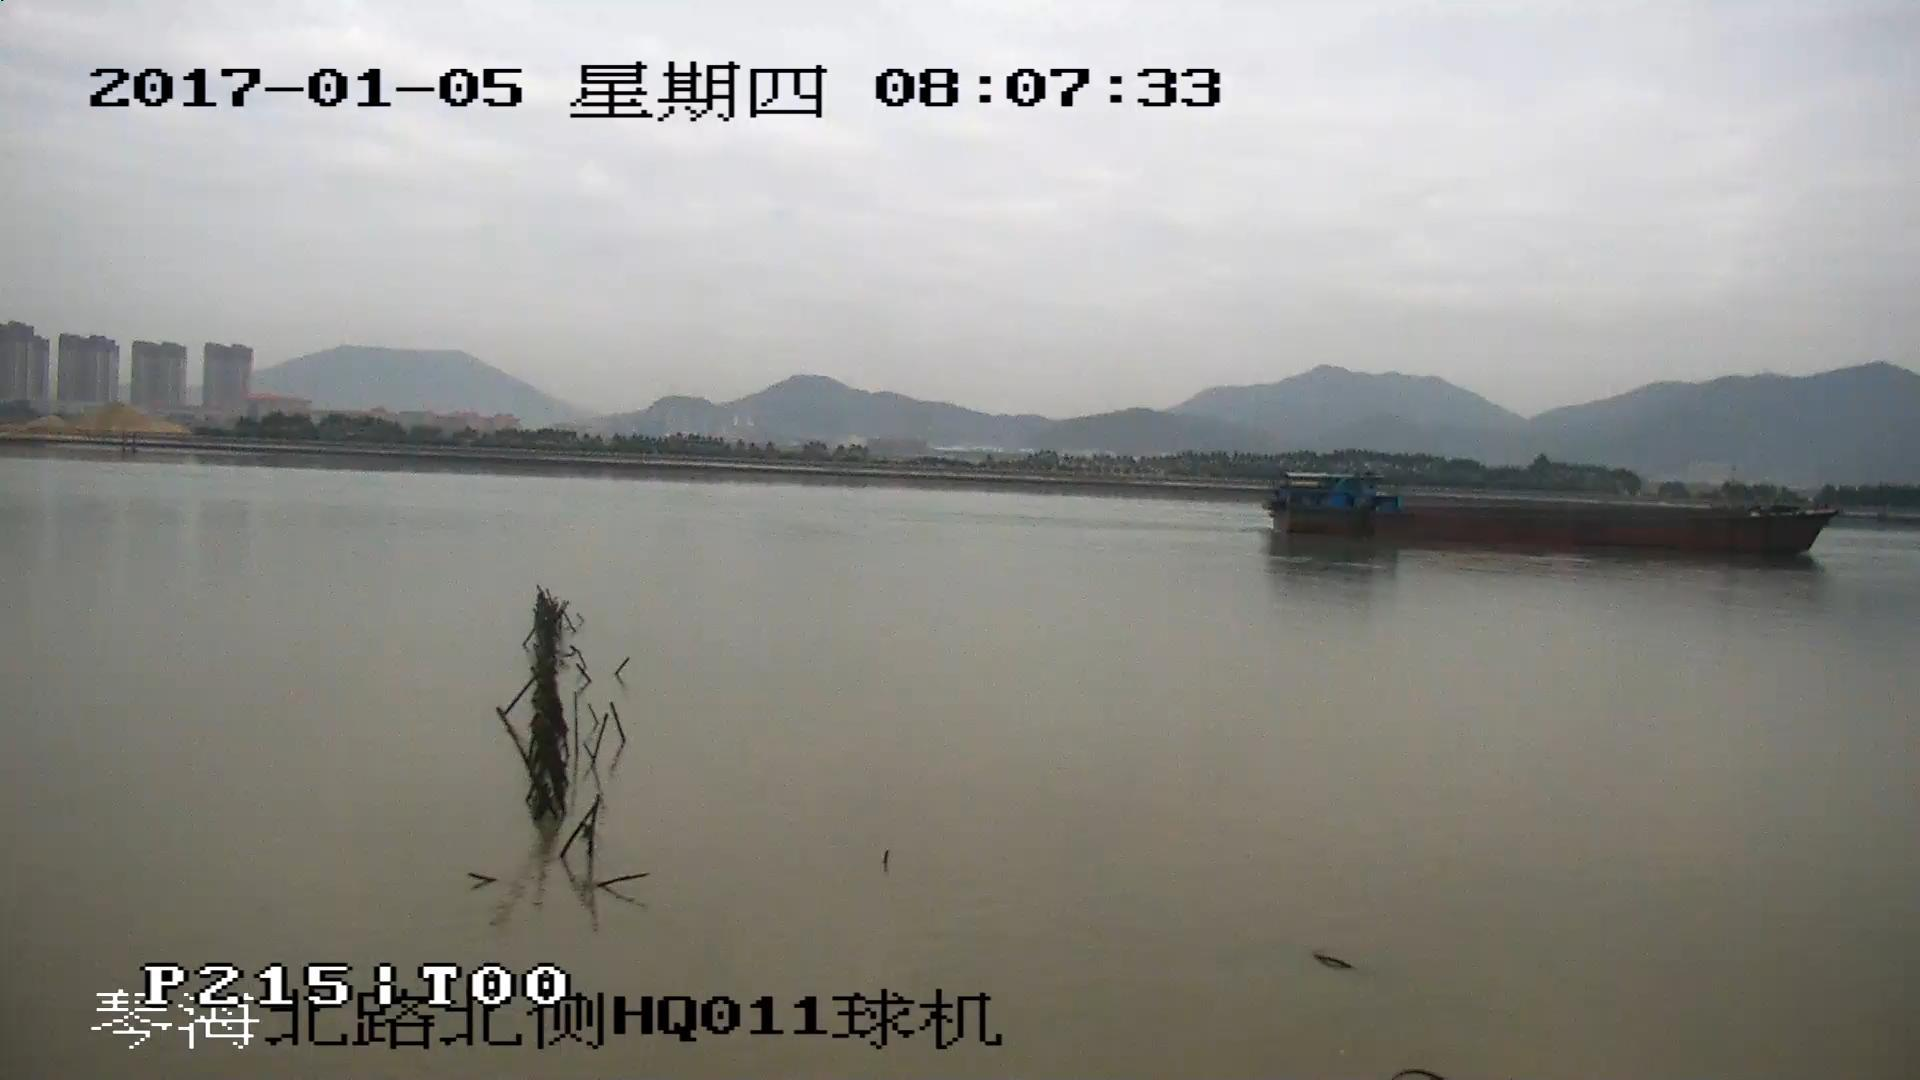Ship: (1261, 471, 1832, 560)
